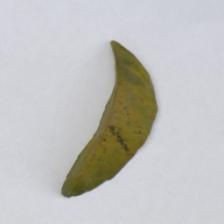greening: (94, 39, 163, 123)
